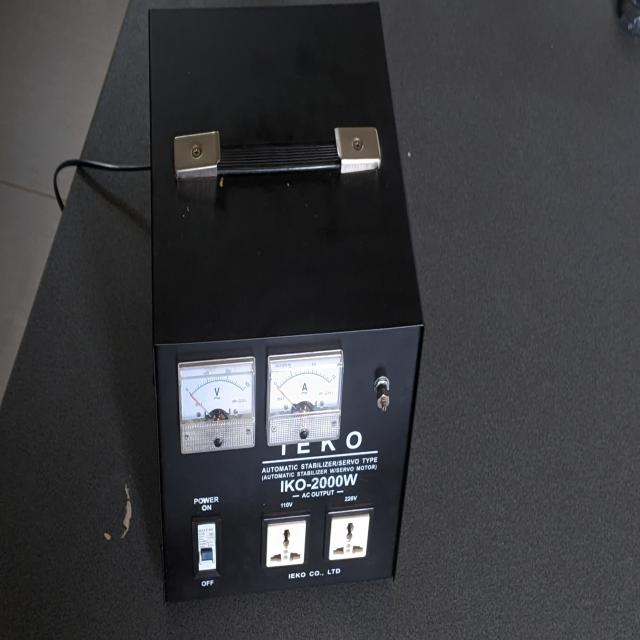AC POWER Stabilizer: (133, 0, 432, 621)
